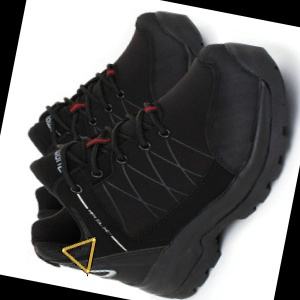triangle: (58, 236, 97, 274)
